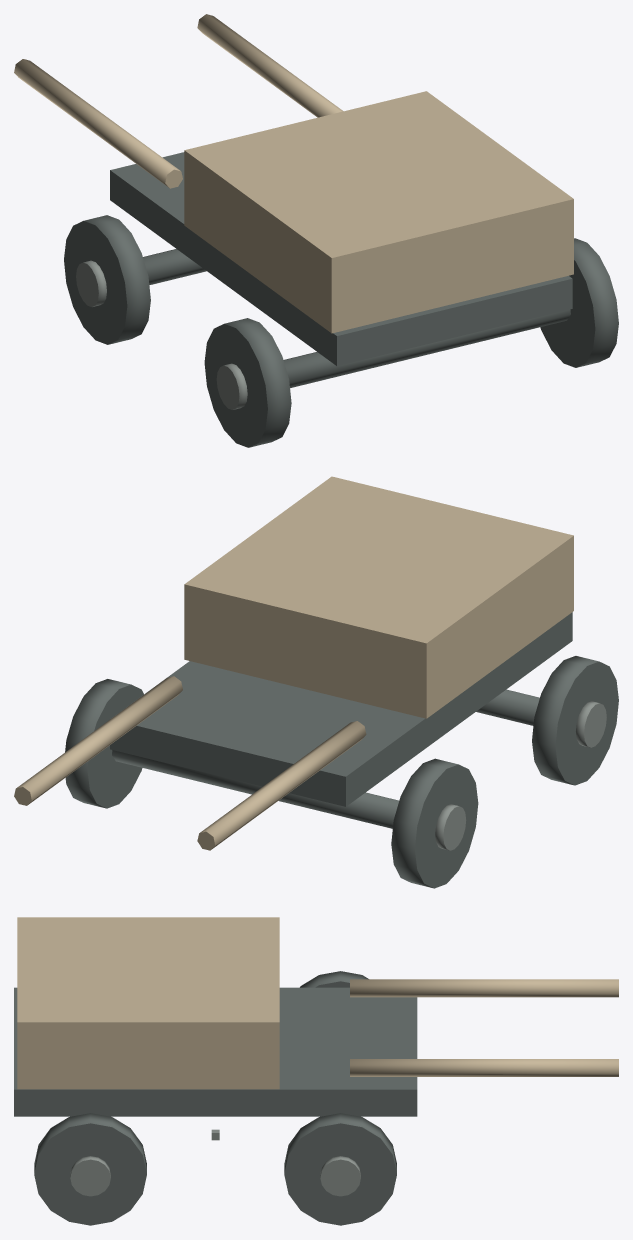
File: tyne-cart_lod0.glb
3 renders of one model, top to bottom at view 1: azimuth 30°, elevation 25°; view 2: azimuth 150°, elevation 25°; view 3: azimuth 270°, elevation 25°, orthographic. The views are drawn at different scales.
Visible parts, largest first — view 1: RF_CargoBed, RF_RoadChassis, RF_Wheel.001, RF_Wheel.003, RF_Wheel.002, RF_CartShaft.001, RF_Axle.001, RF_CartShaft, RF_Axle, RF_WheelHub.003, RF_WheelHub.001; view 2: RF_CargoBed, RF_RoadChassis, RF_Wheel.003, RF_Wheel.001, RF_Wheel, RF_CartShaft.001, RF_CartShaft, RF_Axle, RF_Axle.001, RF_WheelHub.003, RF_WheelHub.001; view 3: RF_CargoBed, RF_RoadChassis, RF_Wheel.002, RF_Wheel, RF_CartShaft.001, RF_CartShaft, RF_WheelHub.002, RF_WheelHub, RF_Wheel.003.
Boxes of the visible parts, x1=… form: RF_CargoBed: x1=184, y1=91, x2=573, y2=333; RF_RoadChassis: x1=110, y1=152, x2=572, y2=366; RF_Wheel.001: x1=204, y1=318, x2=291, y2=447; RF_Wheel.003: x1=64, y1=215, x2=150, y2=344; RF_Wheel.002: x1=540, y1=238, x2=618, y2=367; RF_CartShaft.001: x1=14, y1=59, x2=182, y2=188; RF_Axle.001: x1=283, y1=309, x2=570, y2=388; RF_CartShaft: x1=197, y1=14, x2=343, y2=117; RF_Axle: x1=143, y1=249, x2=206, y2=285; RF_WheelHub.003: x1=76, y1=260, x2=106, y2=306; RF_WheelHub.001: x1=216, y1=363, x2=247, y2=409; RF_CargoBed: x1=184, y1=476, x2=573, y2=718; RF_RoadChassis: x1=110, y1=612, x2=572, y2=806; RF_Wheel.003: x1=391, y1=758, x2=478, y2=888; RF_Wheel.001: x1=532, y1=656, x2=618, y2=785; RF_Wheel: x1=65, y1=679, x2=143, y2=808; RF_CartShaft.001: x1=197, y1=721, x2=366, y2=850; RF_CartShaft: x1=14, y1=676, x2=182, y2=805; RF_Axle: x1=112, y1=750, x2=398, y2=828; RF_Axle.001: x1=476, y1=689, x2=539, y2=725; RF_WheelHub.003: x1=435, y1=804, x2=466, y2=850; RF_WheelHub.001: x1=576, y1=701, x2=606, y2=747; RF_CargoBed: x1=17, y1=917, x2=279, y2=1089; RF_RoadChassis: x1=14, y1=987, x2=417, y2=1116; RF_Wheel.002: x1=34, y1=1113, x2=146, y2=1225; RF_Wheel: x1=284, y1=1113, x2=396, y2=1225; RF_CartShaft.001: x1=350, y1=979, x2=618, y2=997; RF_CartShaft: x1=350, y1=1059, x2=618, y2=1076; RF_WheelHub.002: x1=70, y1=1156, x2=110, y2=1196; RF_WheelHub: x1=320, y1=1156, x2=360, y2=1196; RF_Wheel.003: x1=300, y1=971, x2=368, y2=987.
Bounding box in the file's own units: 2.8 × 1.48 × 4.5.
